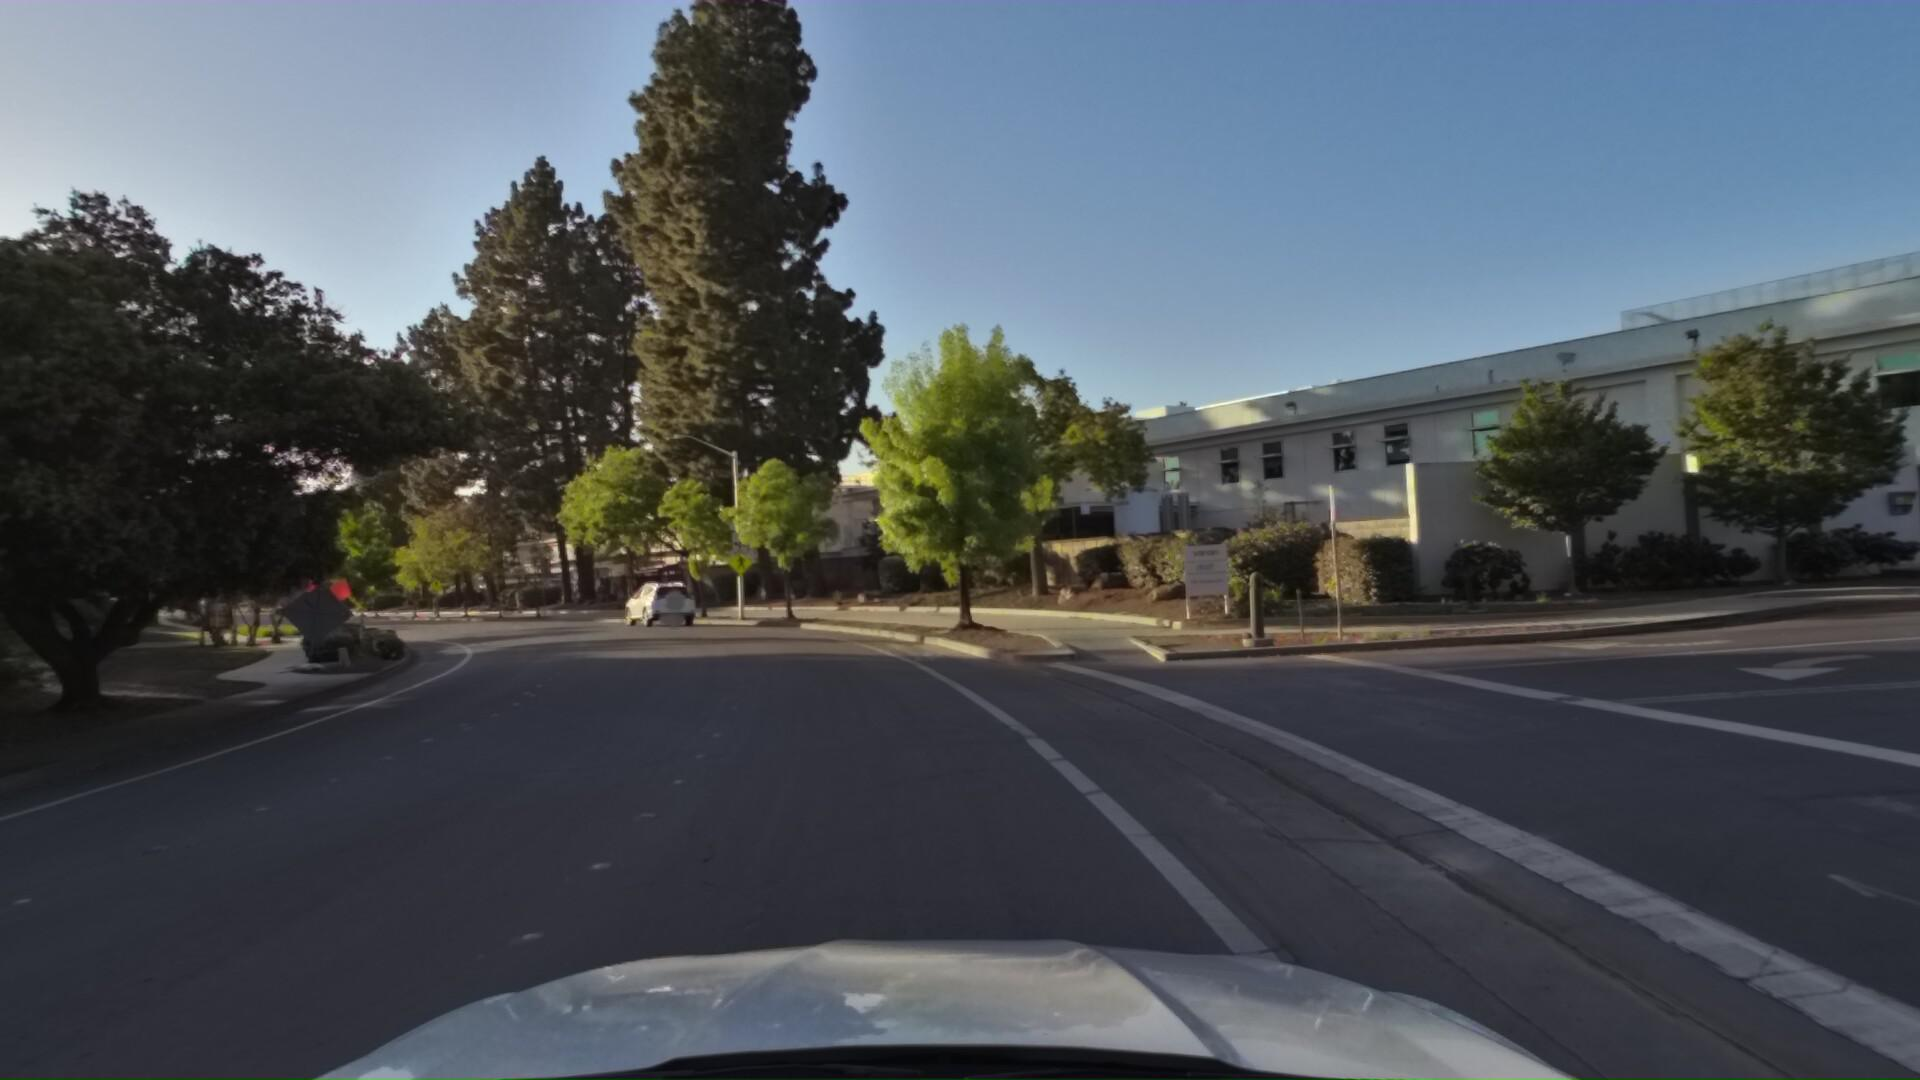car: (612, 576, 698, 628)
